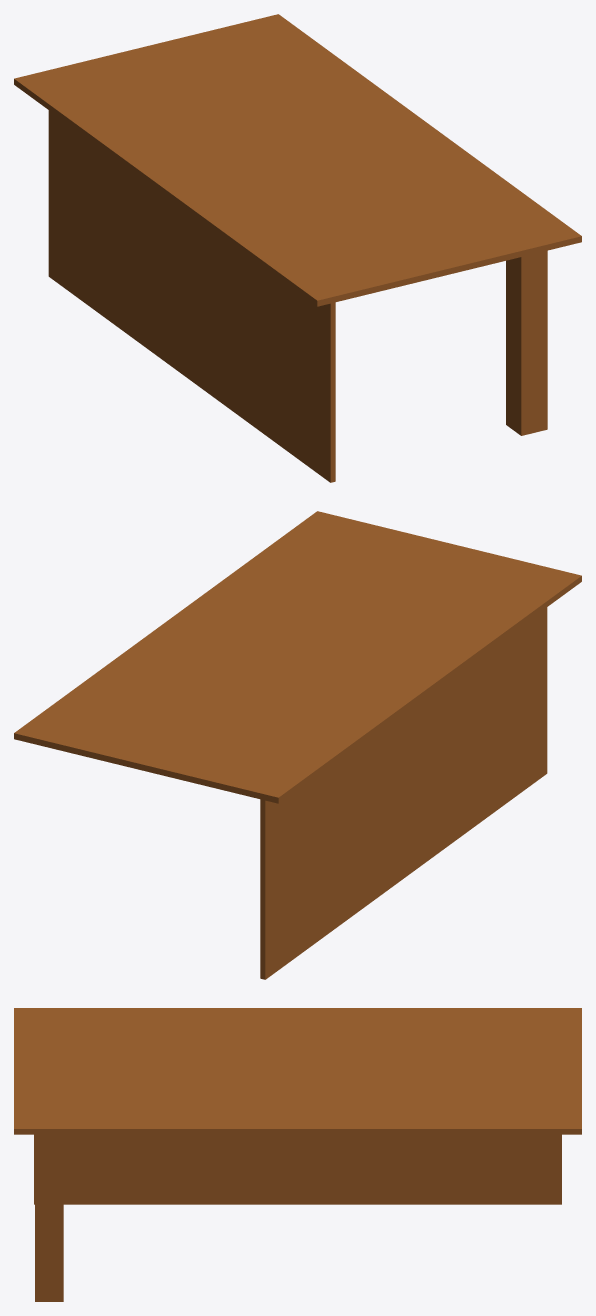
File: desk_color.glb
The picture shows the model from 3 angles, top to bottom: view 1: azimuth 30°, elevation 25°; view 2: azimuth 150°, elevation 25°; view 3: azimuth 270°, elevation 25°; orthographic projection. The views are drawn at different scales.
Visible parts, largest first — view 1: deskboard, backboard, leg; view 2: deskboard, backboard; view 3: deskboard, backboard, leg.
Part boxes in pixels (x1,y1,x2,y2): deskboard: (14, 14, 581, 306); backboard: (48, 110, 335, 482); leg: (506, 250, 547, 435); deskboard: (14, 511, 581, 803); backboard: (260, 607, 547, 979); deskboard: (14, 1008, 581, 1134); backboard: (34, 1134, 561, 1204); leg: (35, 1134, 63, 1301).
Size of the model in its own units: 1 by 0.7078 by 1.99.
